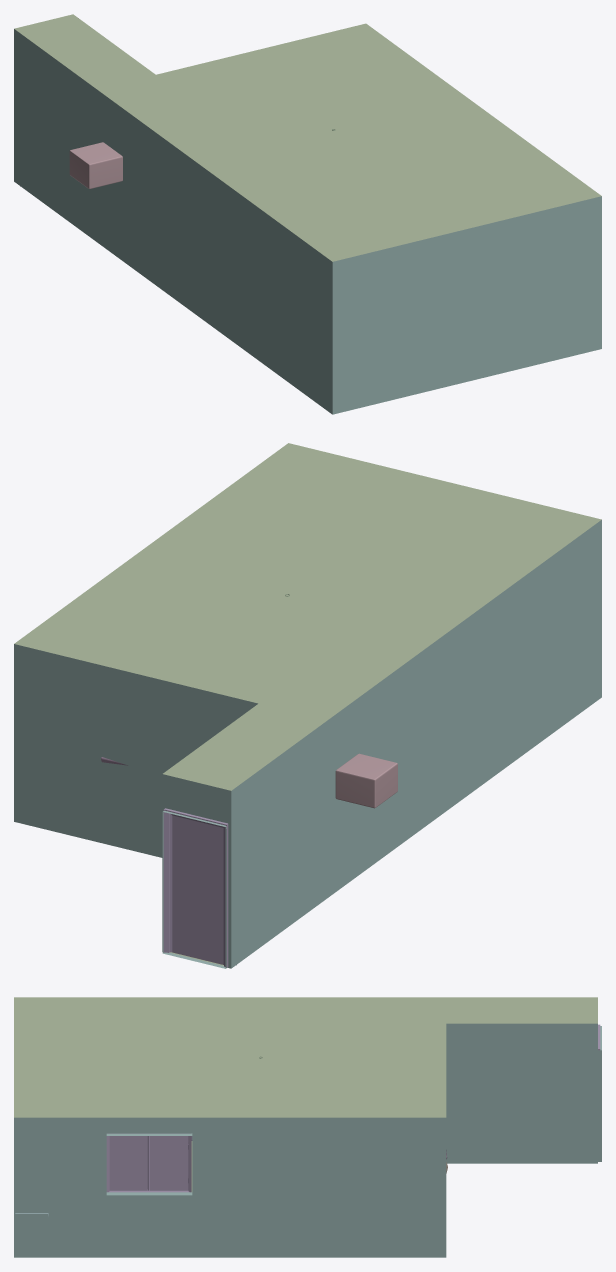
The model's file is RoomAssets.fbx.
3 renders of one model, top to bottom at view 1: azimuth 30°, elevation 25°; view 2: azimuth 150°, elevation 25°; view 3: azimuth 270°, elevation 25°, orthographic. The views are drawn at different scales.
Parts seen in each view (by area): view 1: Walls, Roof, Safe_body; view 2: Walls, Roof, Door_Body, Safe_body, Door_Frame; view 3: Walls, Roof, Window_Door_Right, Window_Door_Left, Window_Frame.
Boxes of the visible parts, x1,y1,x2,y2 form: Walls: [14, 29, 601, 414]; Roof: [14, 14, 601, 261]; Safe_body: [69, 142, 122, 188]; Walls: [14, 520, 601, 968]; Roof: [14, 443, 601, 790]; Door_Body: [169, 813, 223, 964]; Safe_body: [335, 753, 397, 808]; Door_Frame: [163, 808, 228, 967]; Walls: [14, 1023, 601, 1257]; Roof: [14, 997, 597, 1117]; Window_Door_Right: [109, 1136, 148, 1190]; Window_Door_Left: [149, 1136, 188, 1190]; Window_Frame: [106, 1133, 191, 1192].
Size of the model in its own units: 0.0636 by 0.0304 by 0.1141.
